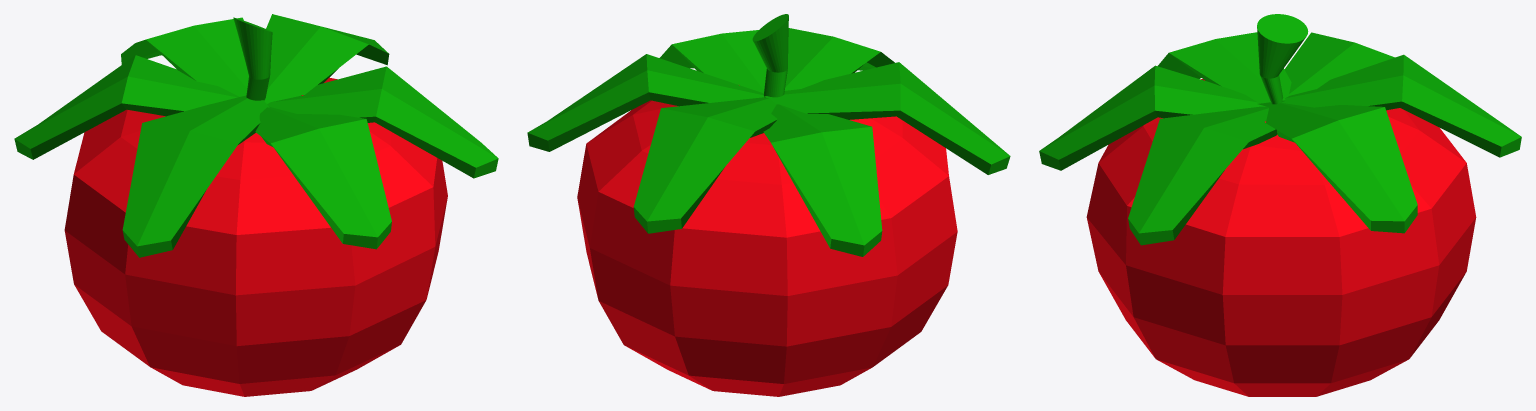
Rendered from tomaat.fbx.
3 renders of one model, left to right at view 1: azimuth 30°, elevation 25°; view 2: azimuth 150°, elevation 25°; view 3: azimuth 270°, elevation 25°, orthographic.
Visible parts, largest first — view 1: Sphere, Cube.004, Cube.001, Cube.003, Cube.002, Cube.005, Cube, Cylinder; view 2: Sphere, Cube.002, Cube, Cube.004, Cube.005, Cube.001, Cube.003, Cylinder; view 3: Sphere, Cube.005, Cube.003, Cube, Cube.001, Cube.004, Cube.002, Cylinder.
Part boxes in pixels (left/top/right/bottom): Sphere: left=64, top=77, right=447, bottom=396; Cube.004: left=122, top=95, right=269, bottom=257; Cube.001: left=255, top=106, right=391, bottom=249; Cube.003: left=267, top=66, right=498, bottom=178; Cube.002: left=14, top=55, right=239, bottom=159; Cube.005: left=264, top=14, right=389, bottom=103; Cube: left=121, top=17, right=248, bottom=96; Cylinder: left=233, top=17, right=272, bottom=100; Sphere: left=577, top=85, right=957, bottom=396; Cube.002: left=763, top=104, right=882, bottom=256; Cube: left=633, top=97, right=777, bottom=233; Cube.004: left=764, top=62, right=1010, bottom=174; Cube.005: left=527, top=54, right=764, bottom=151; Cube.001: left=784, top=28, right=894, bottom=90; Cube.003: left=659, top=30, right=766, bottom=93; Cylinder: left=752, top=14, right=788, bottom=97; Sphere: left=1086, top=79, right=1476, bottom=396; Cube.005: left=1266, top=103, right=1417, bottom=233; Cube.003: left=1128, top=106, right=1277, bottom=245; Cube: left=1282, top=54, right=1521, bottom=157; Cube.001: left=1039, top=65, right=1265, bottom=170; Cube.004: left=1158, top=32, right=1291, bottom=106; Cube.002: left=1284, top=32, right=1394, bottom=95; Cylinder: left=1257, top=14, right=1308, bottom=104.
Size of the model in its own units: 213 by 196 by 249.
